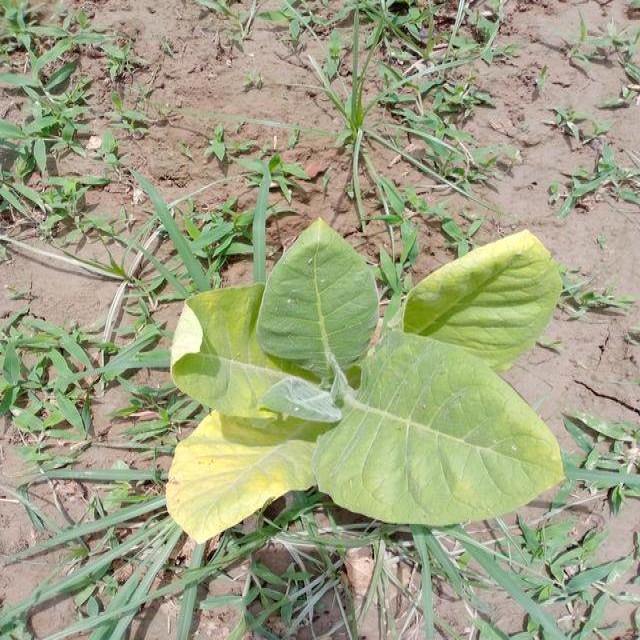crop: (162, 230, 567, 542)
